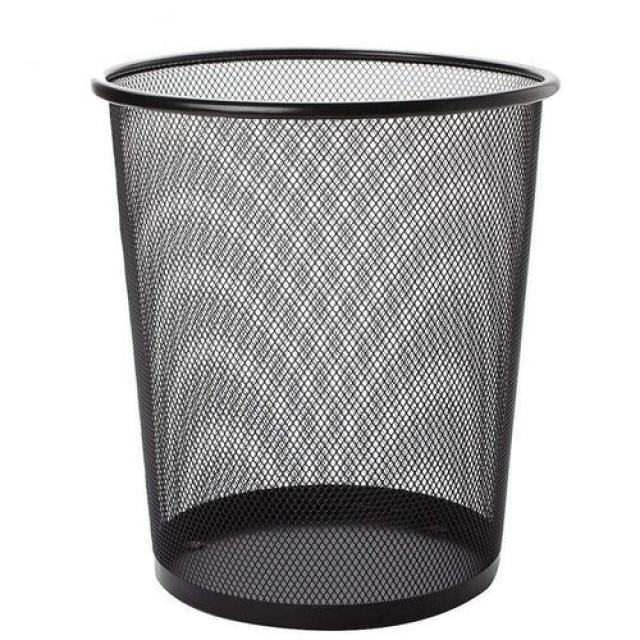Dustbin: (85, 40, 568, 633)
